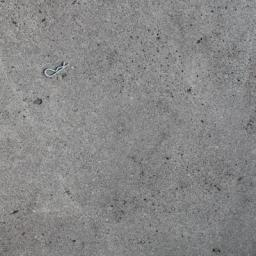FOD: (43, 59, 72, 80)
